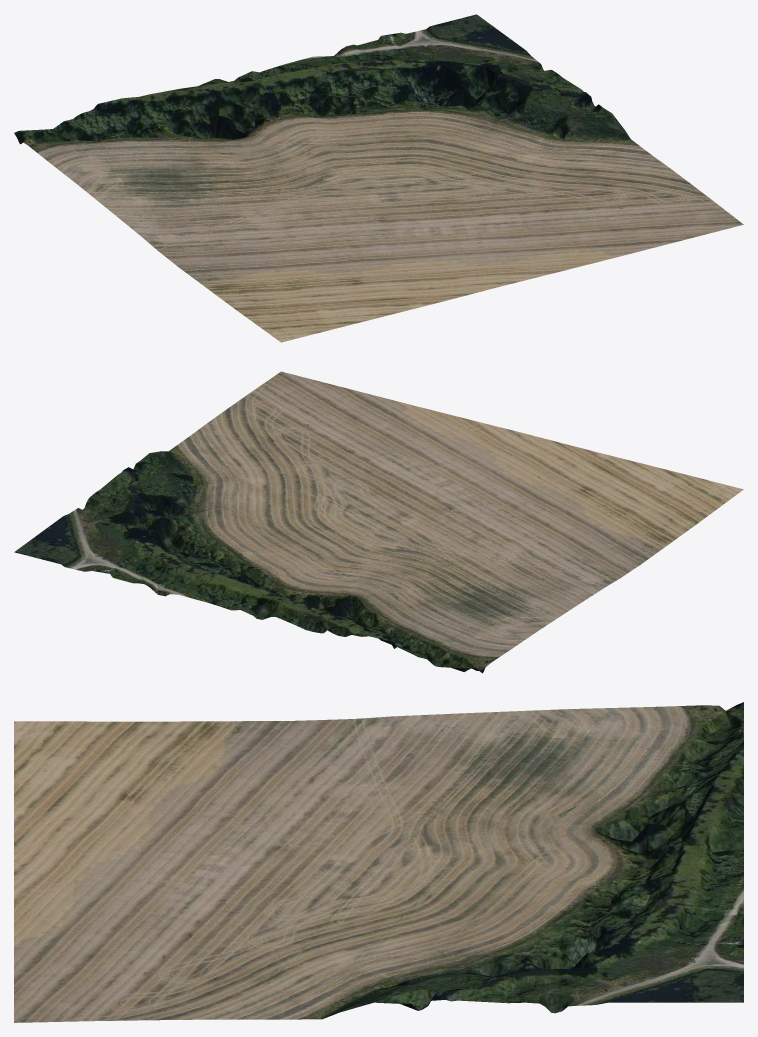
The model's file is map_13_2046_3442.dae.
The picture shows the model from 3 angles, top to bottom: view 1: azimuth 30°, elevation 25°; view 2: azimuth 150°, elevation 25°; view 3: azimuth 270°, elevation 25°; orthographic projection. The views are drawn at different scales.
Visible parts, largest first — view 1: Ter0; view 2: Ter0; view 3: Ter0.
Boxes of the visible parts, box(x1,y1,x2,y2) form: Ter0: box(14, 14, 743, 342); Ter0: box(14, 371, 743, 673); Ter0: box(14, 702, 743, 1022).
Size of the model in its own units: 256 by 256 by 17.6.
Materials: 3 (3 with a texture image).
